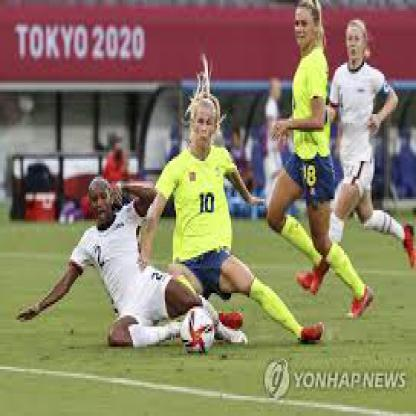Fall_Down: (14, 177, 251, 349)
